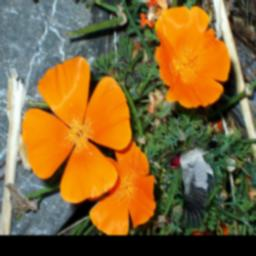Sparrow: (5, 182, 38, 223)
Woodpecker: (164, 138, 220, 230)
